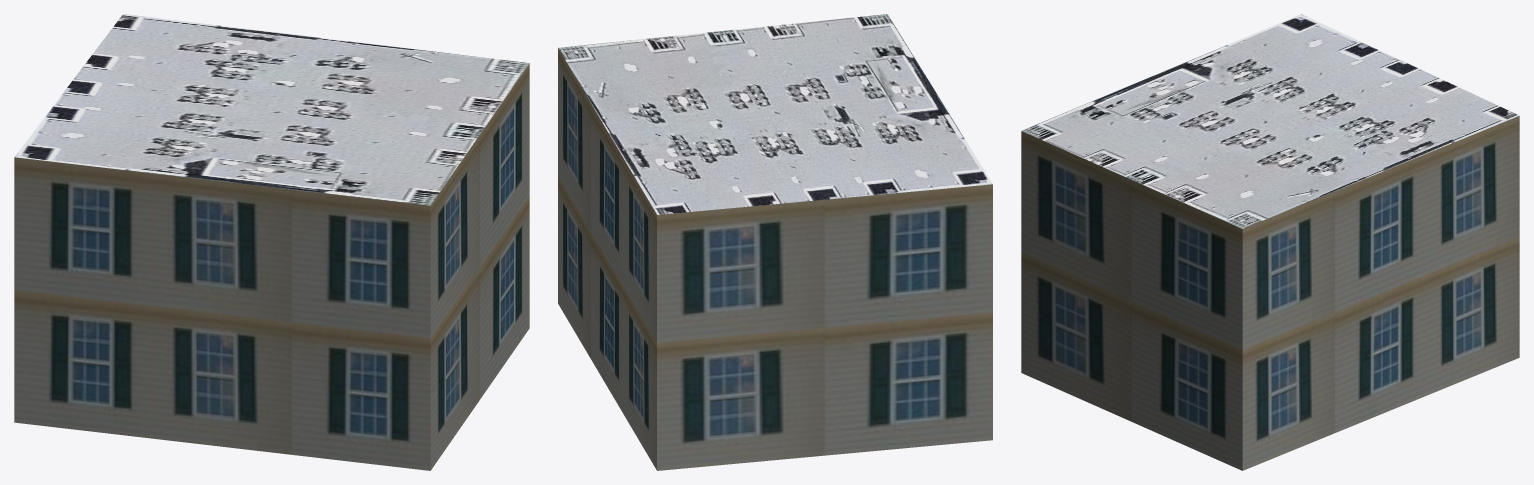
File: ResTex__2804.fbx
3 views of the same model, side by side, from view 1: azimuth 30°, elevation 25°; view 2: azimuth 150°, elevation 25°; view 3: azimuth 270°, elevation 25° (orthographic). The views are drawn at different scales.
Parts seen in each view (by area): view 1: CityEngineMaterial_7_m, CityEngineMaterial_4_m; view 2: CityEngineMaterial_7_m, CityEngineMaterial_4_m; view 3: CityEngineMaterial_7_m, CityEngineMaterial_4_m.
Part boxes in pixels (box(x1,y1,x2,y2)): CityEngineMaterial_7_m: box(14, 63, 529, 470); CityEngineMaterial_4_m: box(14, 14, 529, 205); CityEngineMaterial_7_m: box(558, 48, 992, 470); CityEngineMaterial_4_m: box(558, 14, 992, 214); CityEngineMaterial_7_m: box(1021, 116, 1519, 470); CityEngineMaterial_4_m: box(1021, 14, 1519, 228).
Size of the model in its own units: 11.43 by 6 by 11.2.
2 materials, 2 textured.
